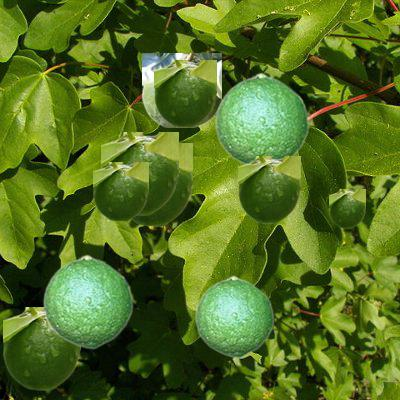dalandan: (214, 72, 308, 163), (42, 254, 132, 348), (194, 275, 273, 357), (3, 307, 79, 389), (101, 132, 177, 214), (142, 53, 220, 126), (132, 143, 191, 225), (238, 156, 299, 222), (154, 60, 215, 126), (93, 162, 147, 220), (329, 189, 364, 227)
